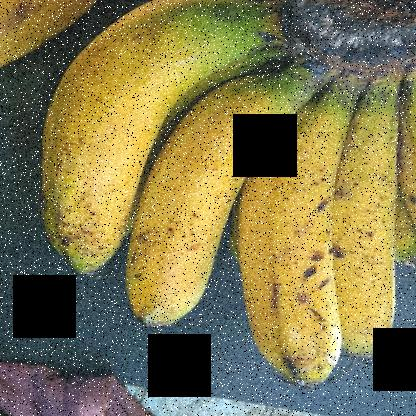ripe: (47, 1, 273, 275), (129, 73, 303, 329), (223, 93, 351, 393), (320, 85, 415, 382)
